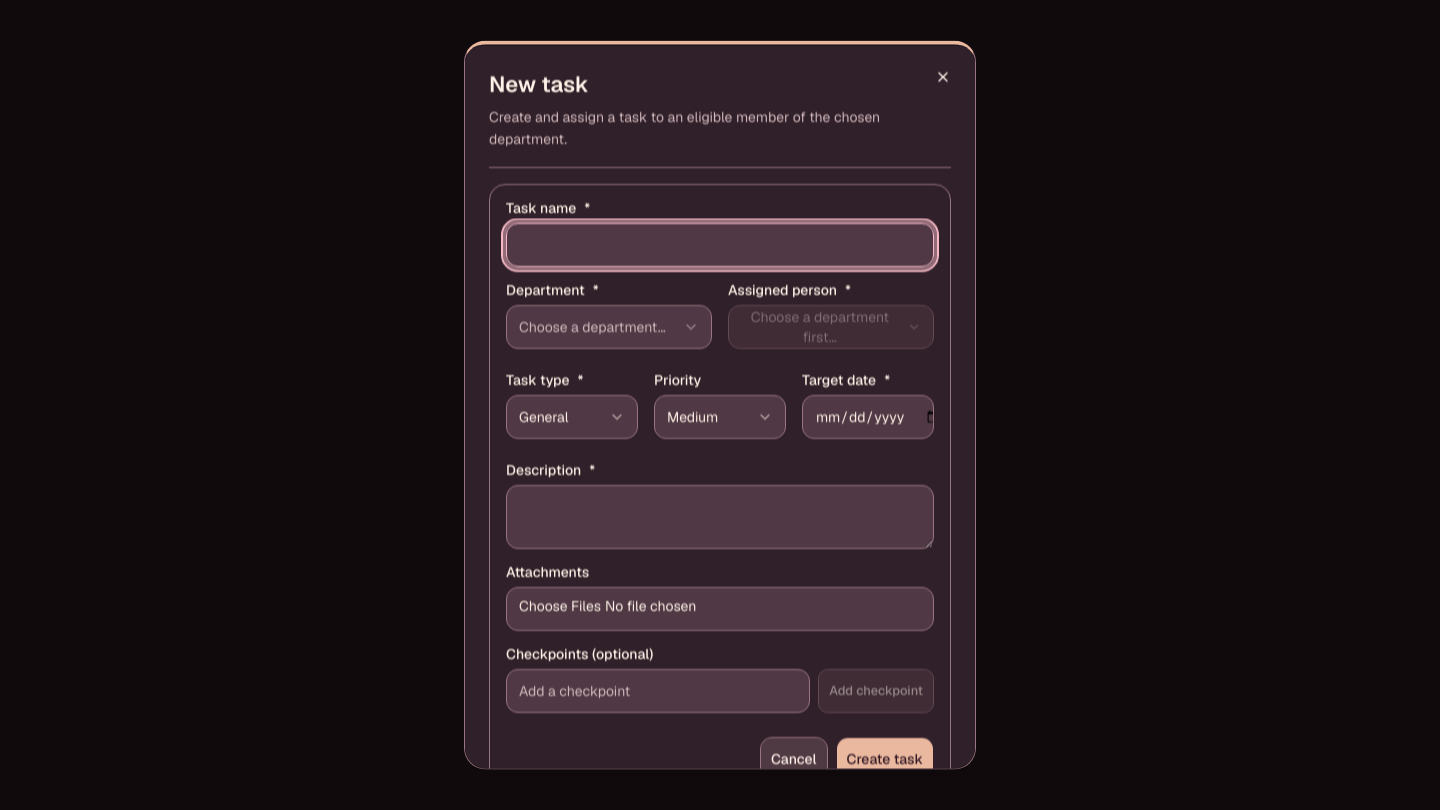
Test case: CreateTaskDialog › blocks submission and reports every missing required field
This screenshot has width=1440, height=810.
Click the button "Create task".
click(885, 758)  # box top-left (836, 736), bottom-right (934, 780)
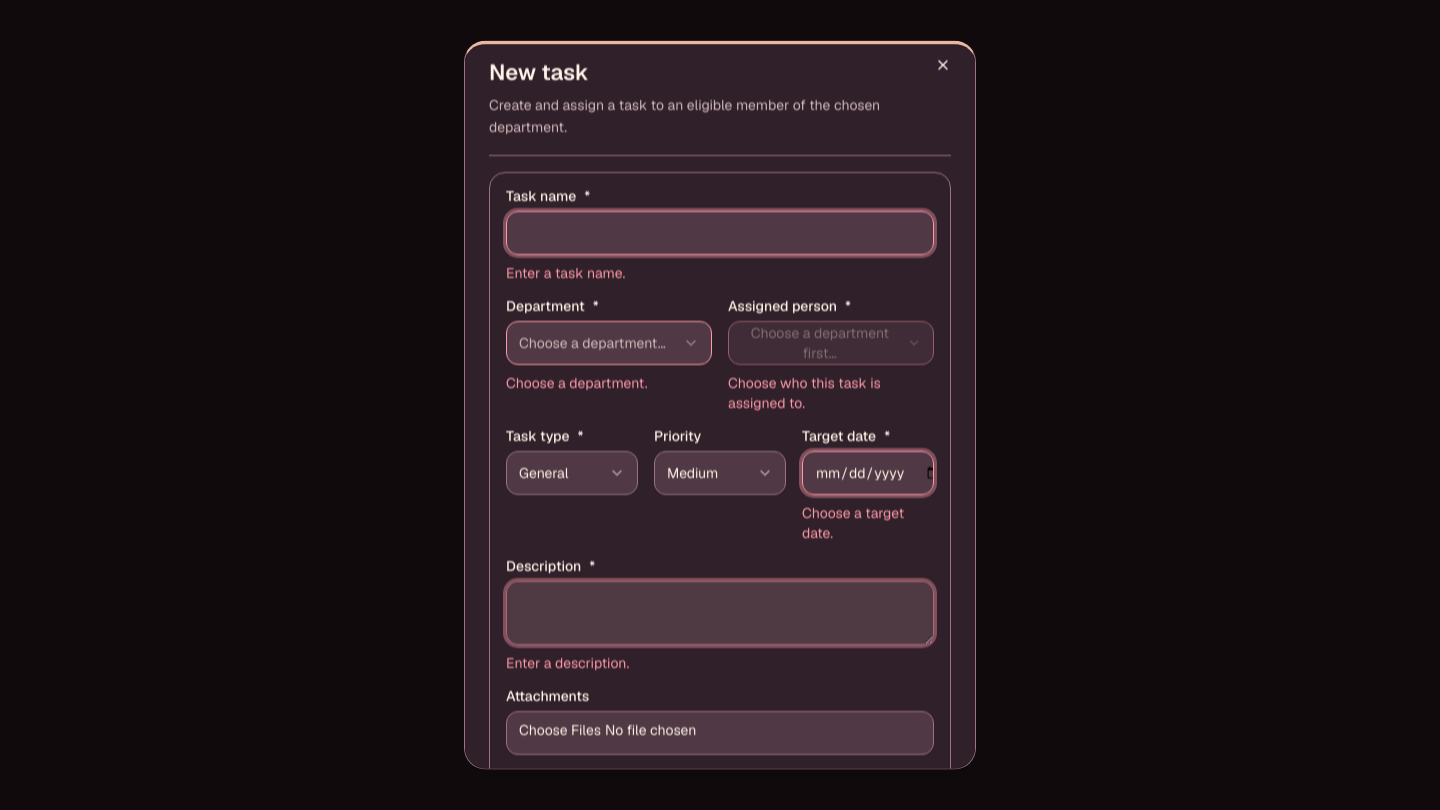
Now the text "Enter a task name." is shown, box top-left (506, 263), bottom-right (625, 281)
Now the text "Choose a department." is shown, box top-left (506, 373), bottom-right (648, 391)
Now the text "Choose who this task is assigned to." is shown, box top-left (728, 373), bottom-right (881, 411)
